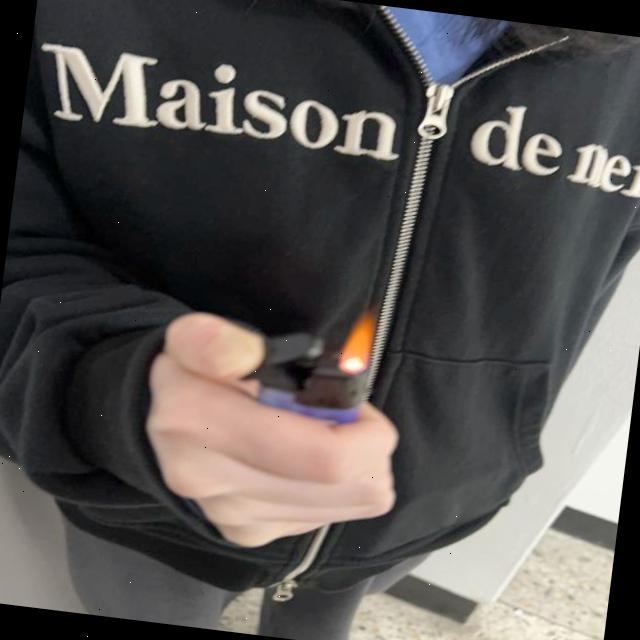fire: (337, 303, 378, 375)
